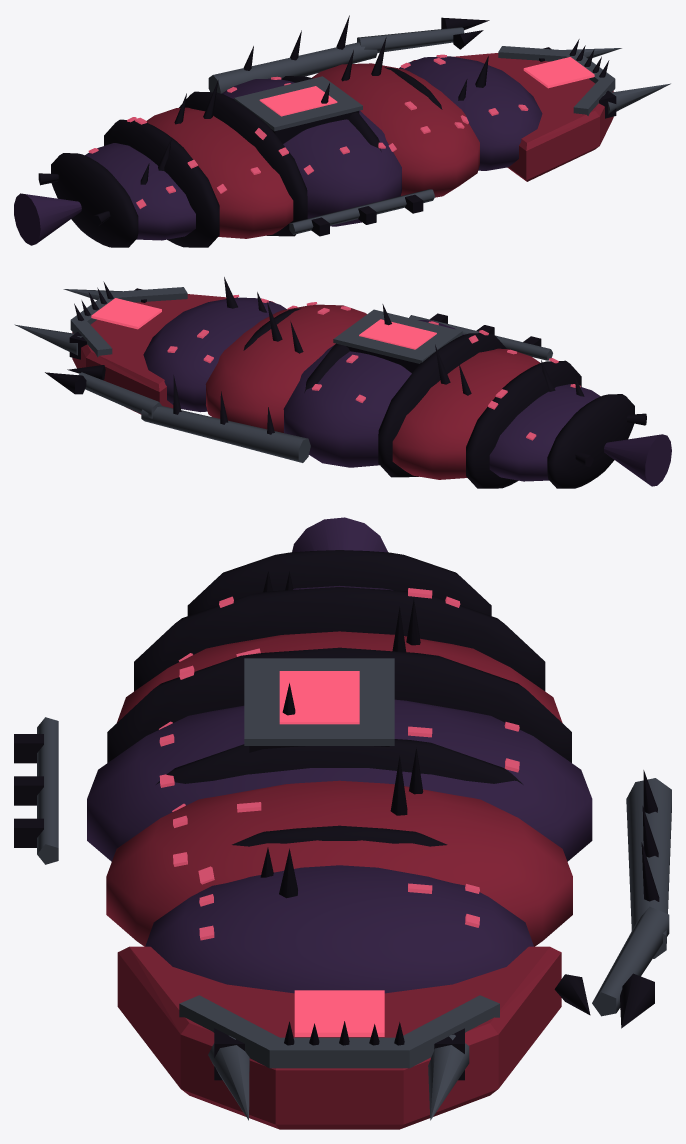
File: dredge-directorate.glb
3 views of the same model, one above another, from view 1: azimuth 30°, elevation 25°; view 2: azimuth 150°, elevation 25°; view 3: azimuth 270°, elevation 25° (orthographic). The views are drawn at different scales.
Visible parts, largest first — view 1: tergite_3, tergite_1, tergite_2, tergite_4, scoop, tergite_ridge_0, tergite_0, tergite_ridge_1, tergite_ridge_2, claw_arm, hopper_rim, telson (+10 smaller); view 2: tergite_3, tergite_2, tergite_1, tergite_4, tergite_0, scoop, tergite_ridge_0, tergite_ridge_1, tergite_ridge_2, claw_arm, hopper_rim, telson (+10 smaller); view 3: tergite_3, scoop, tergite_4, tergite_2, tergite_ridge_1, tergite_ridge_2, tergite_ridge_0, scoop_lip, hopper_rim, tergite_ridge_3, tergite_1, claw_arm (+9 smaller).
Boxes of the visible parts, left/top/right/bottom form: tergite_3: left=312, top=63, right=479, bottom=197; tergite_1: left=146, top=107, right=293, bottom=238; tergite_2: left=222, top=78, right=401, bottom=226; tergite_4: left=399, top=56, right=542, bottom=170; scoop: left=411, top=53, right=613, bottom=181; tergite_ridge_0: left=51, top=153, right=138, bottom=247; tergite_0: left=85, top=143, right=195, bottom=240; tergite_ridge_1: left=104, top=119, right=219, bottom=247; tergite_ridge_2: left=179, top=91, right=307, bottom=236; claw_arm: left=208, top=42, right=377, bottom=93; hopper_rim: left=234, top=76, right=362, bottom=131; telson: left=14, top=193, right=81, bottom=245; tergite_3: left=205, top=304, right=366, bottom=432; tergite_2: left=283, top=320, right=463, bottom=467; tergite_1: left=392, top=348, right=540, bottom=479; tergite_4: left=143, top=297, right=286, bottom=412; tergite_0: left=489, top=384, right=600, bottom=481; scoop: left=72, top=294, right=274, bottom=414; tergite_ridge_0: left=547, top=394, right=634, bottom=488; tergite_ridge_1: left=466, top=360, right=581, bottom=488; tergite_ridge_2: left=378, top=332, right=506, bottom=477; claw_arm: left=141, top=406, right=310, bottom=462; hopper_rim: left=333, top=309, right=462, bottom=363; telson: left=604, top=434, right=671, bottom=486; tergite_3: left=106, top=780, right=572, bottom=946; scoop: left=117, top=946, right=561, bottom=1129; tergite_4: left=145, top=865, right=533, bottom=993; tergite_2: left=87, top=699, right=592, bottom=861; tergite_ridge_1: left=134, top=587, right=545, bottom=691; tergite_ridge_2: left=107, top=647, right=571, bottom=762; tergite_ridge_0: left=187, top=550, right=491, bottom=615; scoop_lip: left=179, top=995, right=499, bottom=1068; hopper_rim: left=244, top=658, right=394, bottom=745; tergite_ridge_3: left=156, top=739, right=523, bottom=784; tergite_1: left=117, top=631, right=562, bottom=722; claw_arm: left=626, top=778, right=671, bottom=958.
Size of the model in its own units: 120 by 24.89 by 59.27.
